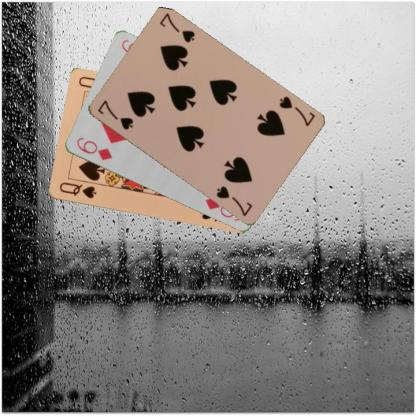6d: (73, 135, 114, 162)
7s: (276, 94, 316, 128), (95, 97, 134, 131)
Qs: (57, 180, 98, 200)
